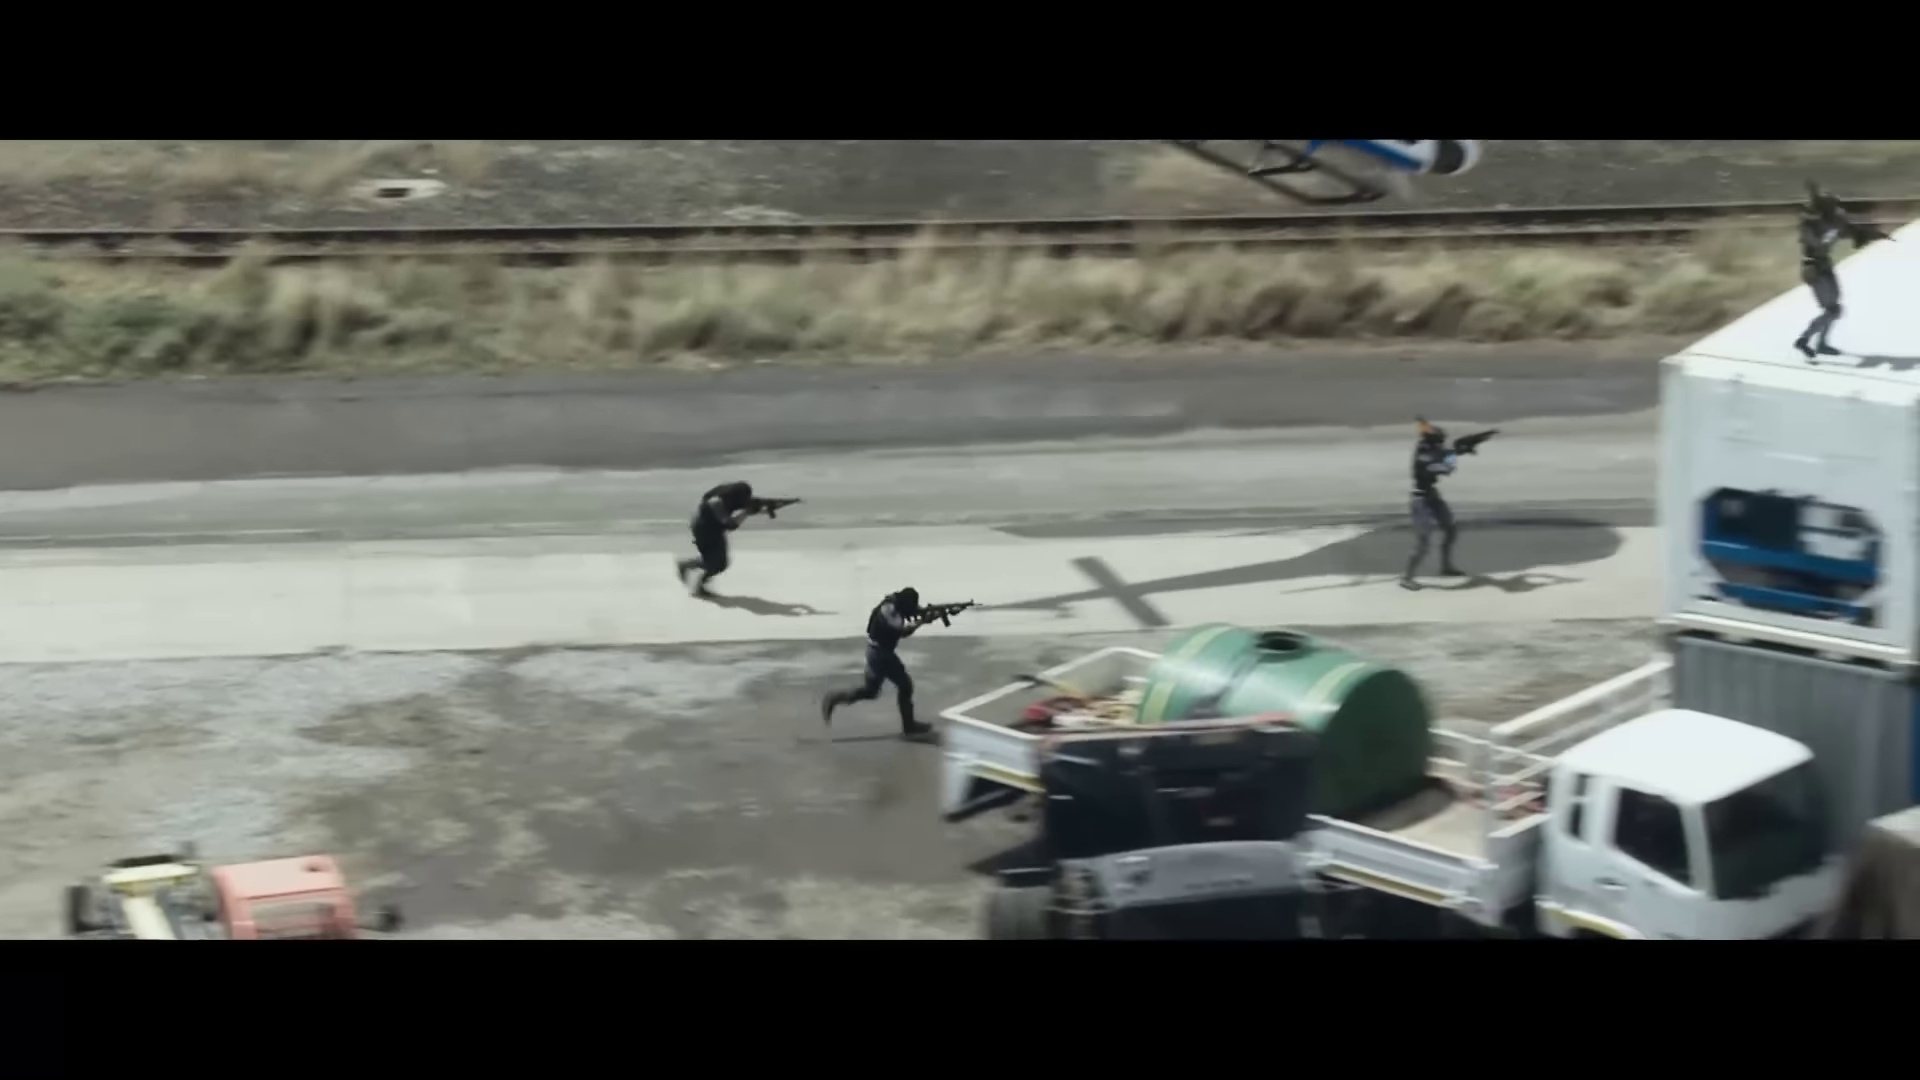gun: (909, 599, 982, 628), (1834, 223, 1896, 248), (737, 496, 800, 520), (1451, 427, 1501, 456)
p_w_gun: (820, 588, 984, 732), (1398, 423, 1505, 589), (1792, 187, 1896, 357), (675, 479, 803, 593)
